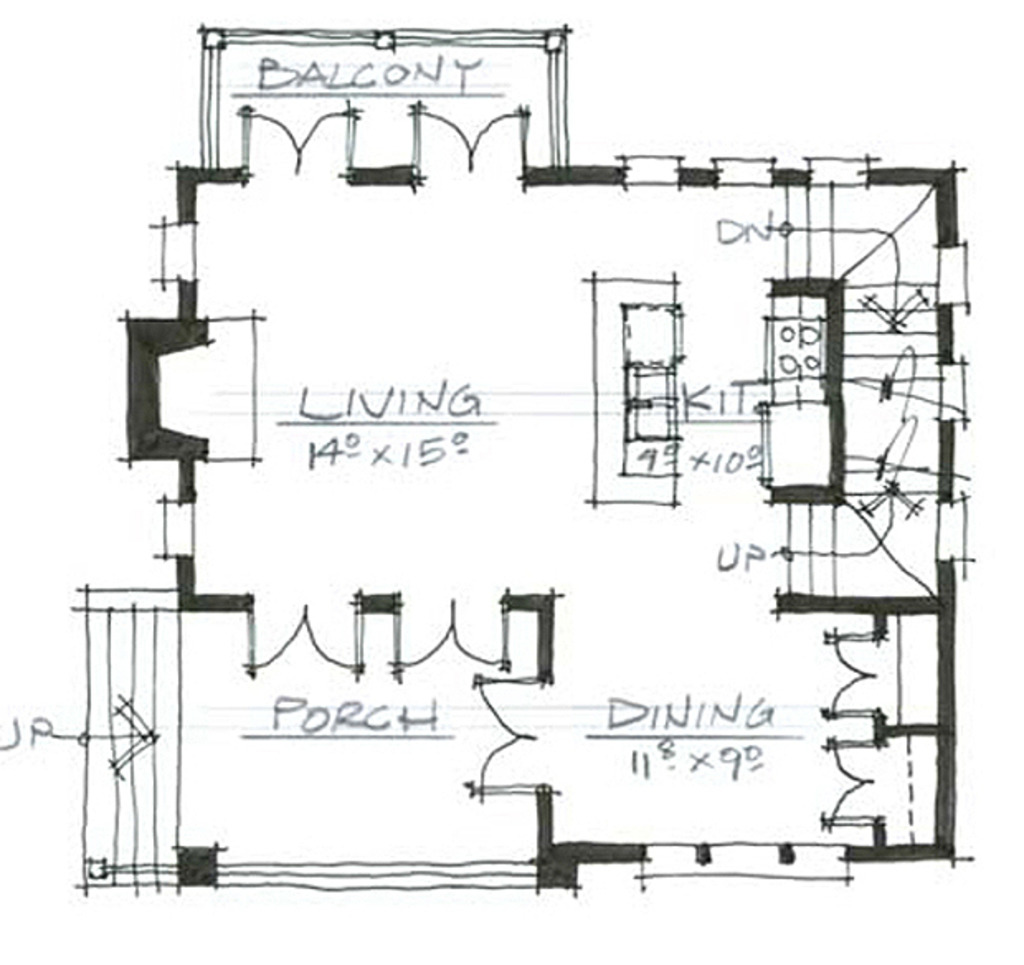door: (406, 102, 529, 187), (241, 599, 360, 679), (244, 110, 372, 182), (390, 602, 520, 671)
